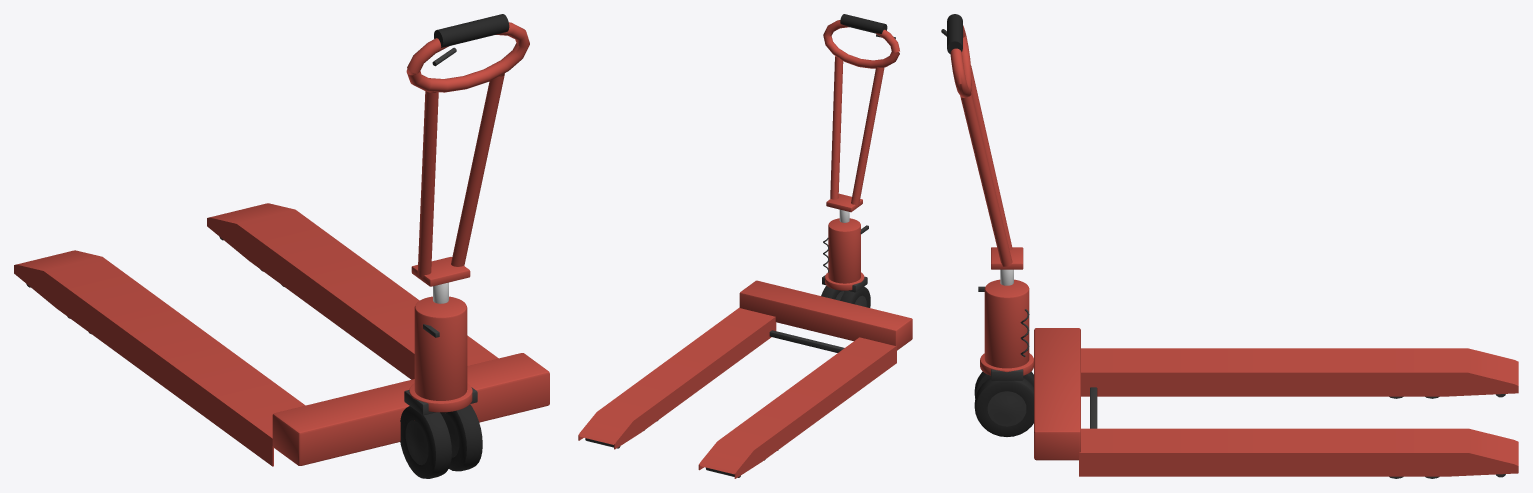
File: Kit_PalletJack.fbx
3 views of the same model, side by side, from view 1: azimuth 30°, elevation 25°; view 2: azimuth 150°, elevation 25°; view 3: azimuth 270°, elevation 25° (orthographic). The views are drawn at different scales.
Parts seen in each view (by area): view 1: Kit_PalletJack_LOD0; view 2: Kit_PalletJack_LOD0; view 3: Kit_PalletJack_LOD0.
Boxes of the visible parts, x1=… form: Kit_PalletJack_LOD0: x1=14, y1=14, x2=549, y2=478; Kit_PalletJack_LOD0: x1=578, y1=14, x2=912, y2=478; Kit_PalletJack_LOD0: x1=941, y1=14, x2=1518, y2=478.
Size of what is drawn, in the model's own units: 0.686 by 1.23 by 1.6.
